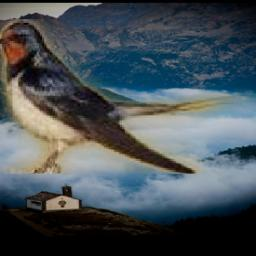Swallow: (0, 20, 256, 175)
